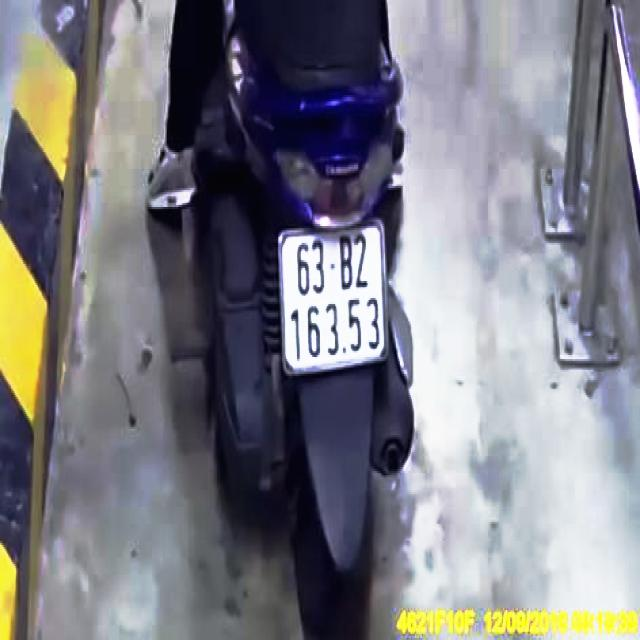license_plate: (284, 224, 386, 368)
